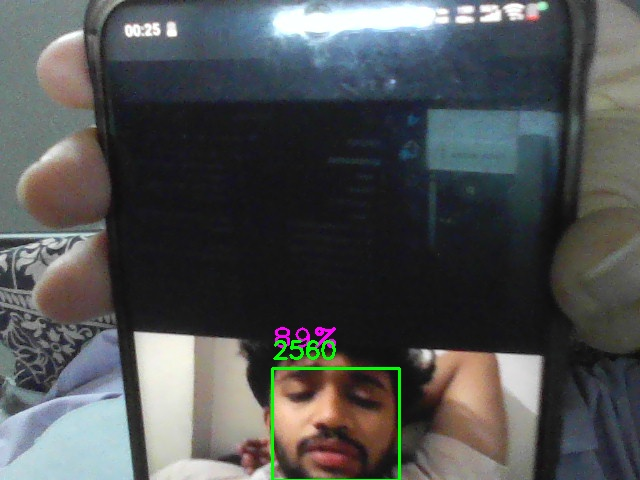fake: (272, 368, 400, 480)
